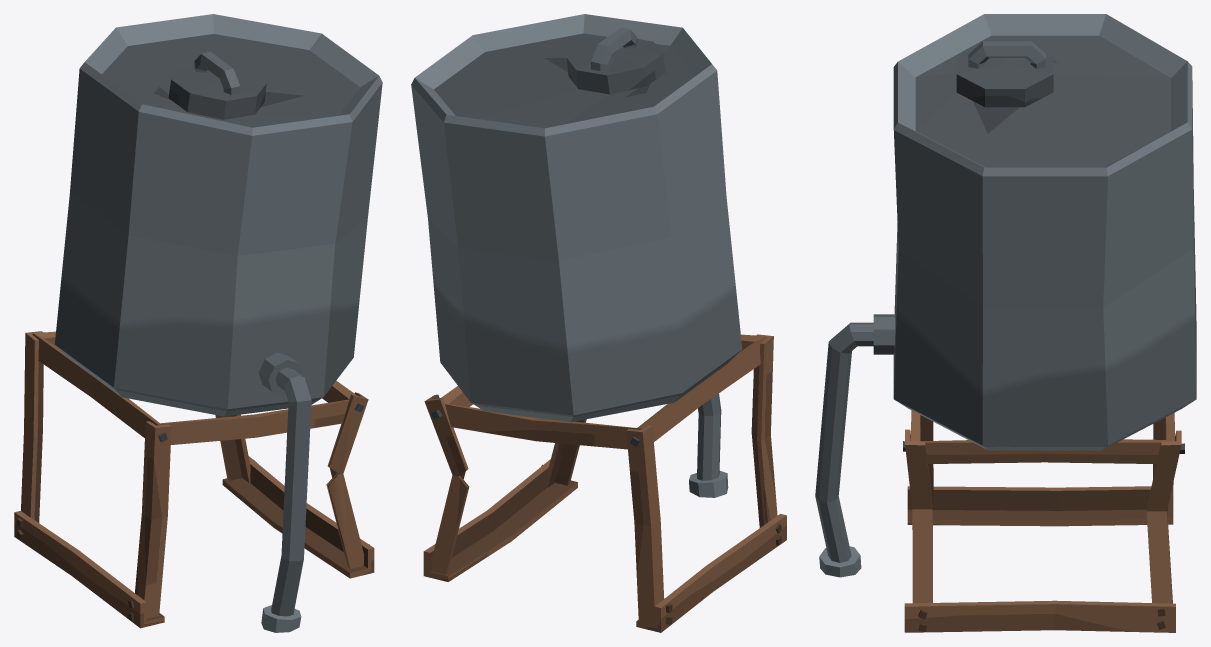
File: SM_Prop_WaterTank_02.fbx
The picture shows the model from 3 angles, left to right: view 1: azimuth 30°, elevation 25°; view 2: azimuth 150°, elevation 25°; view 3: azimuth 270°, elevation 25°; orthographic projection. The views are drawn at different scales.
Parts seen in each view (by area): view 1: SM_Prop_WaterTank_02; view 2: SM_Prop_WaterTank_02; view 3: SM_Prop_WaterTank_02.
Part boxes in pixels (box(x1,y1,x2,y2)): SM_Prop_WaterTank_02: box(14, 14, 382, 632); SM_Prop_WaterTank_02: box(411, 14, 786, 632); SM_Prop_WaterTank_02: box(815, 14, 1196, 632).
Bounding box in the file's own units: 210 × 359 × 233.
